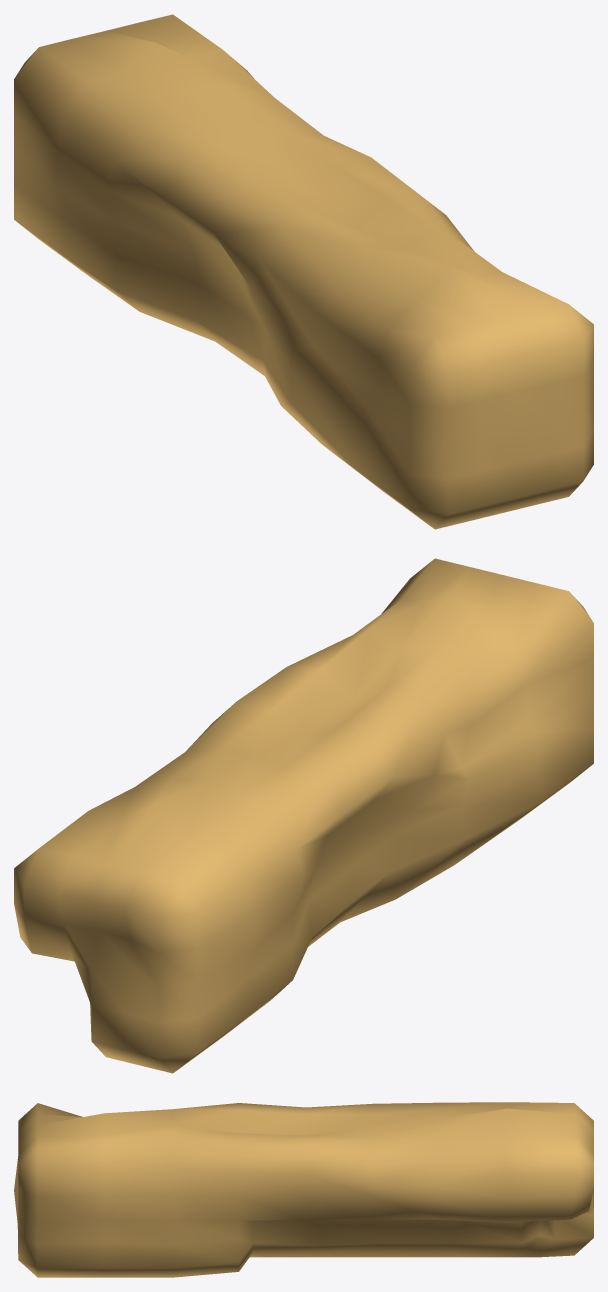
Rendered from RockyWall01.fbx.
The picture shows the model from 3 angles, top to bottom: view 1: azimuth 30°, elevation 25°; view 2: azimuth 150°, elevation 25°; view 3: azimuth 270°, elevation 25°; orthographic projection. The views are drawn at different scales.
Parts seen in each view (by area): view 1: Wall; view 2: Wall; view 3: Wall.
Boxes of the visible parts, x1,y1,x2,y2 form: Wall: (14,14,593,529); Wall: (14,558,593,1073); Wall: (14,1102,593,1277).
Bounding box in the file's own units: 1622 × 1689 × 6044.
